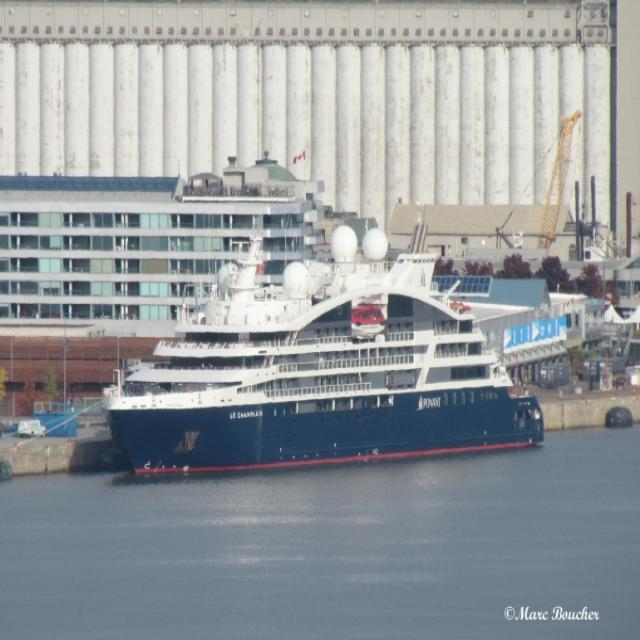cruises: (101, 233, 556, 489)
